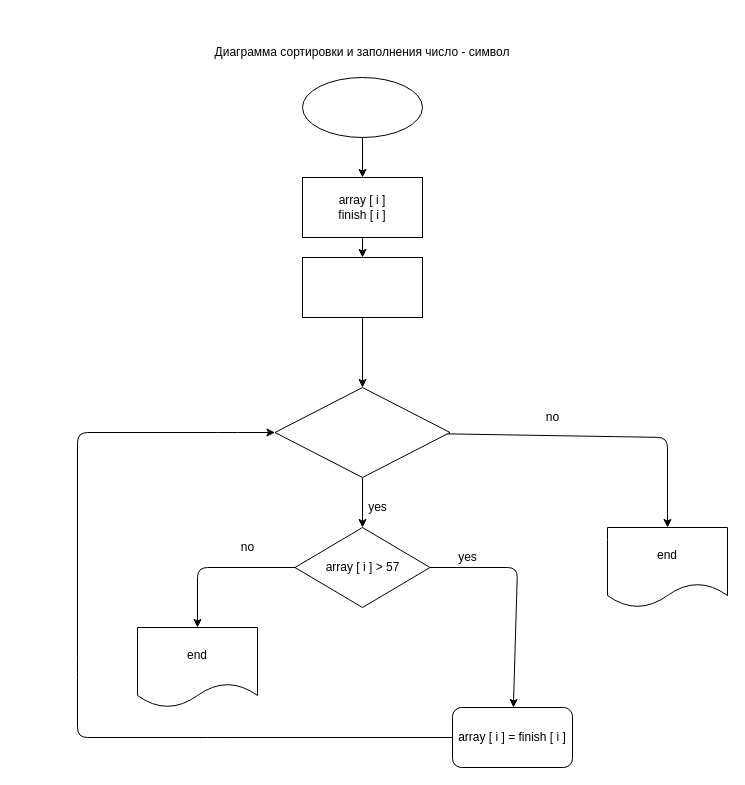
The diagram is 745 pixels wide and 785 high, and some of its shapes have lost their labels. The shapes that lost their labels are listed below. From the top down, each one's centre as x and y in pixels, then its label:
At point (362, 107): "Старт".
At point (362, 287): "i = 0".
At point (362, 432): "i < array.Length".
